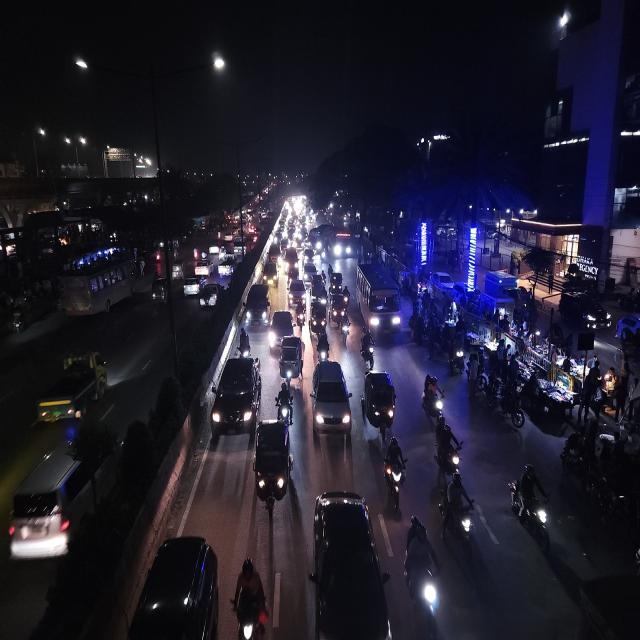bus: (63, 256, 138, 319), (356, 261, 402, 339), (328, 224, 352, 260)
car: (5, 415, 125, 571), (309, 486, 391, 640), (120, 529, 220, 640), (36, 348, 110, 427), (210, 351, 262, 442), (312, 357, 352, 441), (243, 281, 271, 328), (268, 308, 296, 348), (198, 282, 222, 314), (431, 270, 455, 299), (286, 278, 306, 309), (262, 258, 280, 286), (284, 249, 300, 277), (182, 274, 200, 297), (193, 258, 212, 277), (302, 261, 318, 280), (302, 247, 316, 264), (208, 242, 221, 256)
cng: (252, 417, 294, 517), (361, 368, 398, 441), (279, 334, 305, 388), (330, 286, 347, 329), (310, 271, 326, 308), (150, 276, 168, 308), (311, 299, 327, 334), (330, 268, 344, 293), (170, 258, 184, 281)
motorcycle: (402, 514, 446, 638), (507, 463, 555, 549), (439, 471, 479, 562), (231, 552, 271, 640), (435, 413, 463, 482), (383, 434, 407, 512), (420, 371, 444, 422), (276, 378, 292, 426), (359, 327, 376, 370), (283, 382, 295, 431), (234, 326, 252, 358), (316, 328, 331, 362), (340, 311, 352, 347)
pickup_van: (36, 348, 110, 428)
